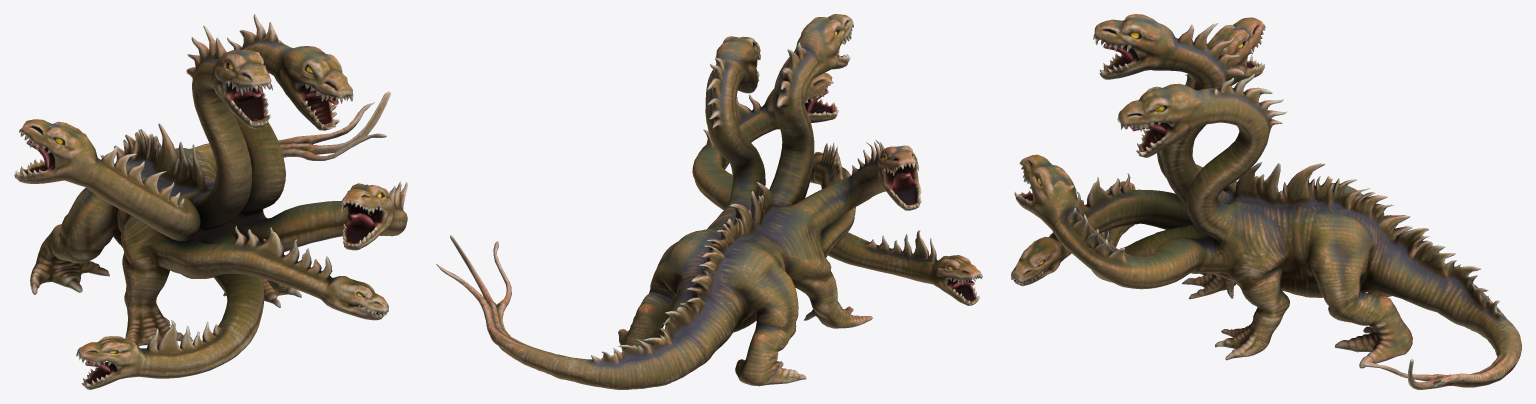
Rendered from MZ4250 - Hydra.glb.
3 renders of one model, left to right at view 1: azimuth 30°, elevation 25°; view 2: azimuth 150°, elevation 25°; view 3: azimuth 270°, elevation 25°, orthographic. The views are drawn at different scales.
Parts seen in each view (by area): view 1: hydra_low.001; view 2: hydra_low.001; view 3: hydra_low.001.
Part boxes in pixels (x1,y1,x2,y2): hydra_low.001: (14,14,407,389); hydra_low.001: (436,14,982,389); hydra_low.001: (1011,14,1521,389).
Size of the model in its own units: 10.3 by 6.52 by 10.24.
1 material, 1 textured.
